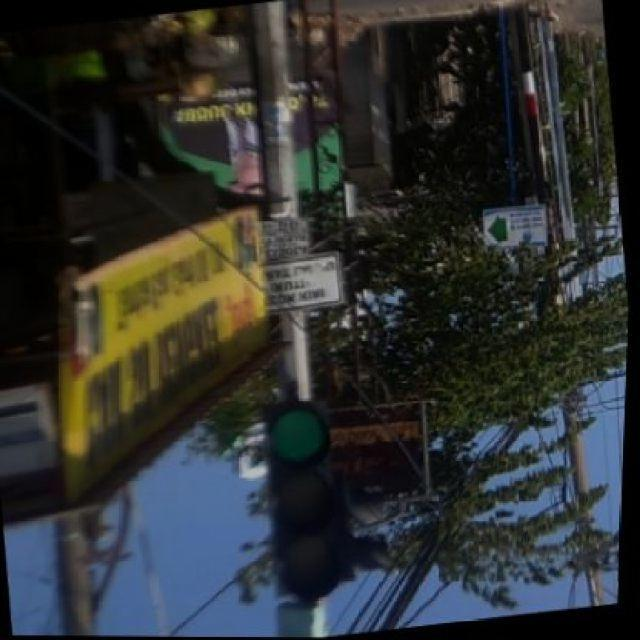Green: (263, 393, 353, 610)
